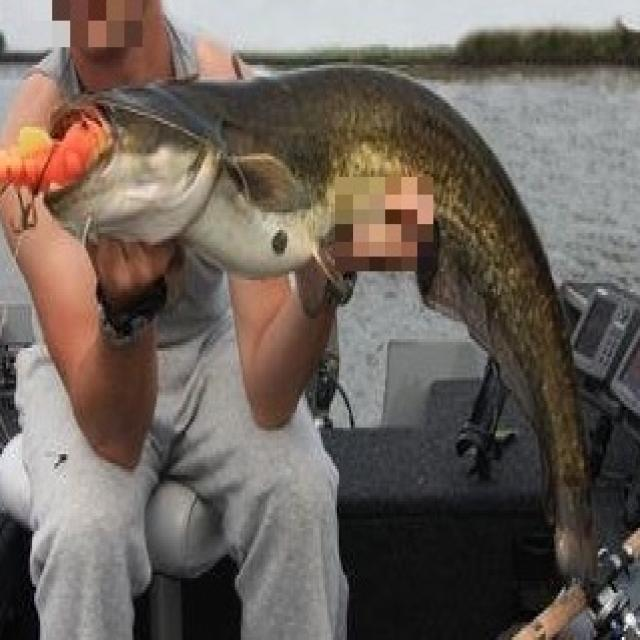Catfish: (22, 76, 616, 592)
